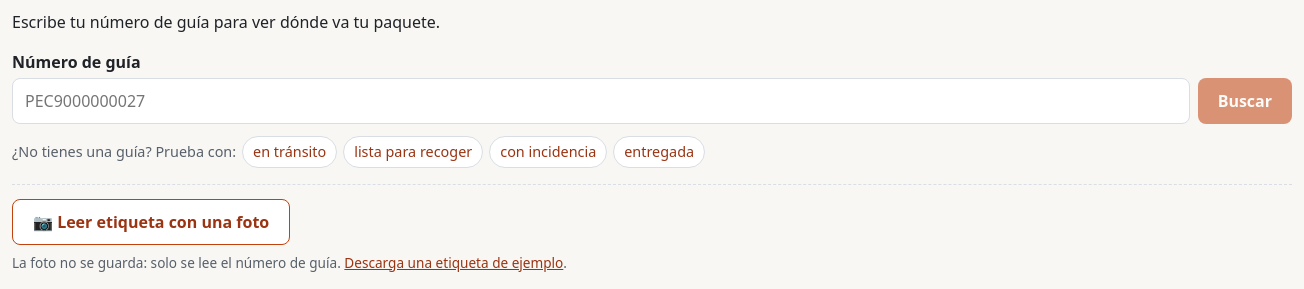
Test: Rastreo › mientras busca, el botón dice "Buscando…" y está desactivado
In the field labelled "Número de guía": (601, 101) [12,78,1190,124], type "PEC2610190049"
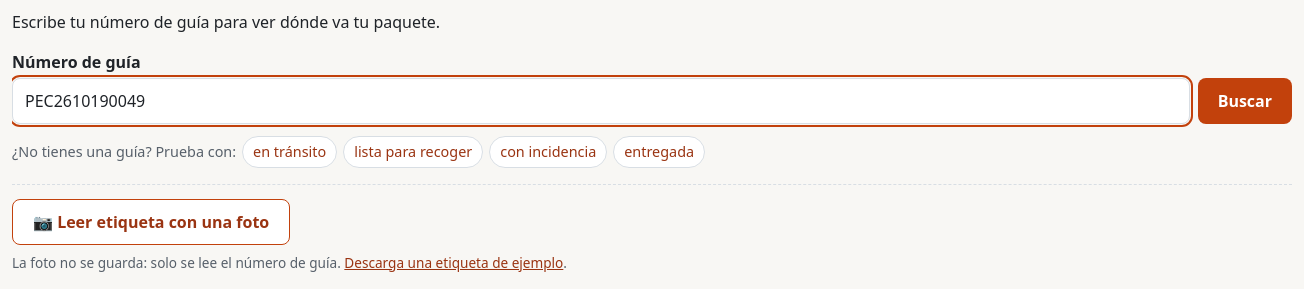
Click the button "Buscar": (1245, 101) [1198,78,1292,124]
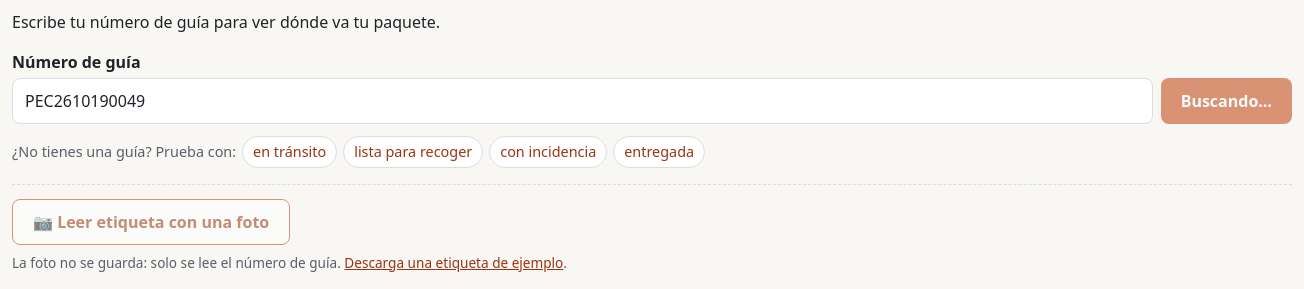
expect the button "Buscando…" is disabled: met, box [1161,78,1292,124]
